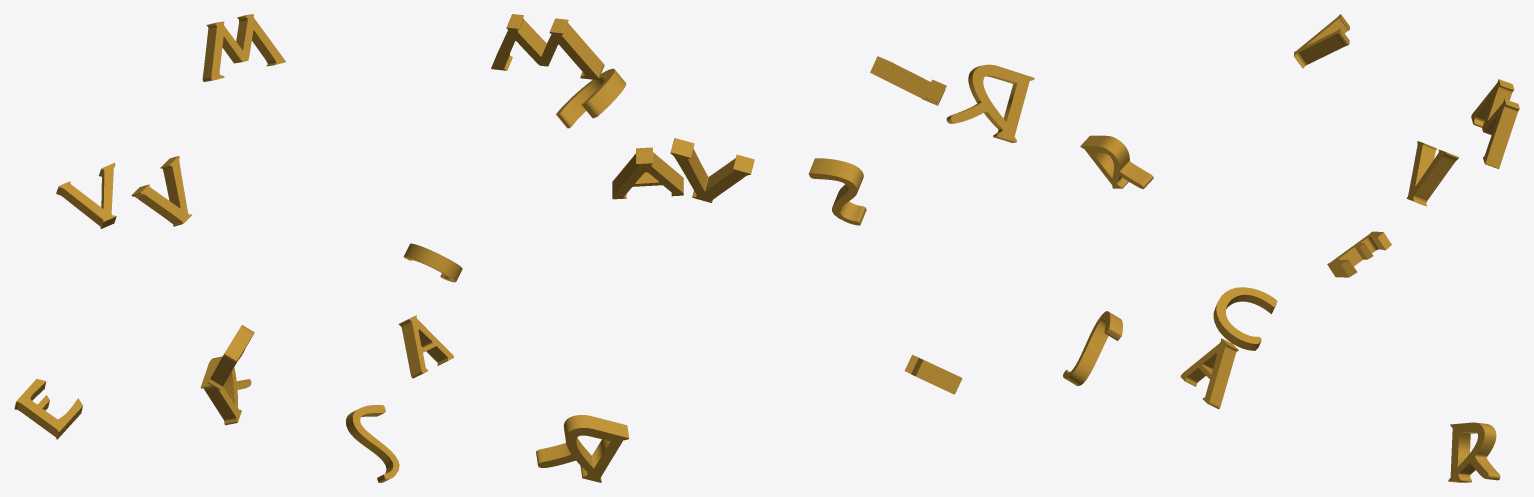
File: lettersanimated.glb
The picture shows the model from 3 angles, left to right: view 1: azimuth 30°, elevation 25°; view 2: azimuth 150°, elevation 25°; view 3: azimuth 270°, elevation 25°; orthographic projection. The views are drawn at different scales.
Visible parts, largest first — view 1: V.001; view 2: V.001; view 3: V.001.
Part boxes in pixels (x1,y1,x2,y2): V.001: [14, 14, 462, 482]; V.001: [491, 14, 1034, 482]; V.001: [1063, 14, 1519, 482].
Size of the model in its own units: 7.1 by 6.83 by 6.93.
